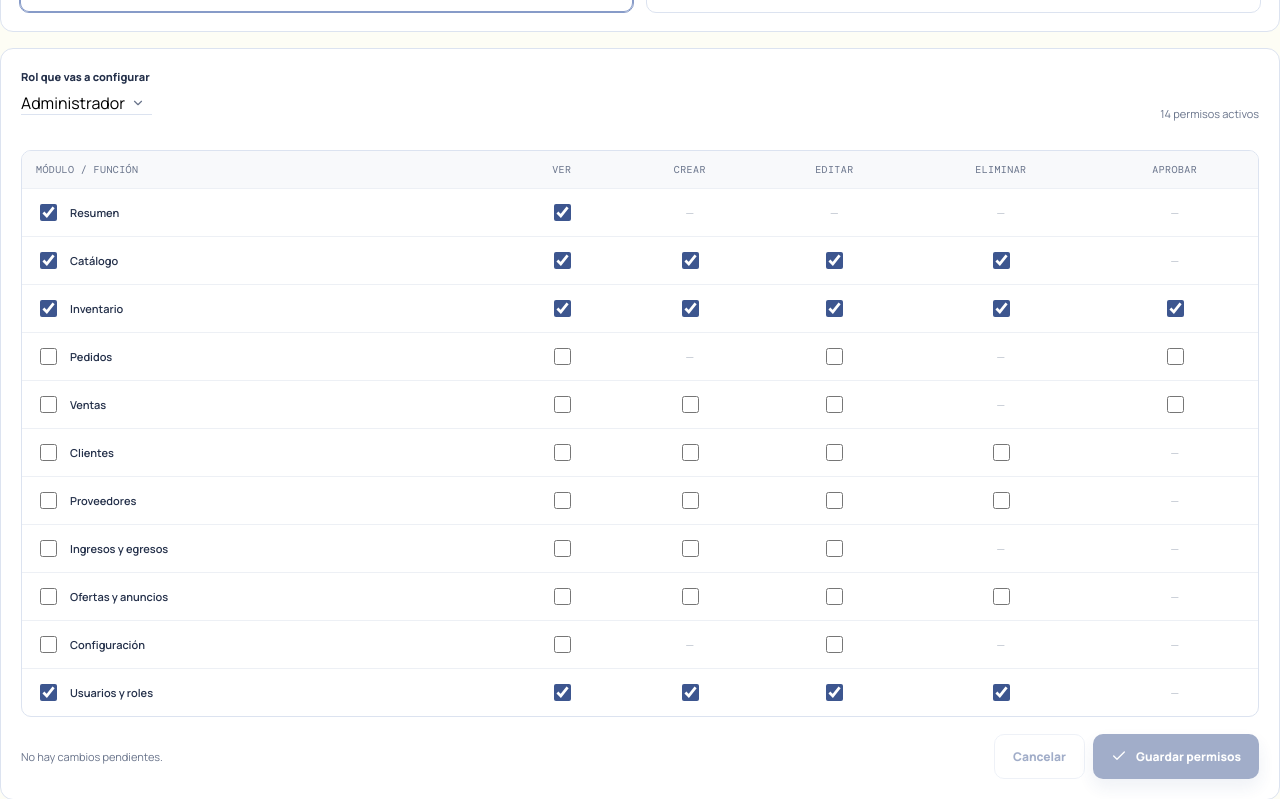
módulos asignados por rol › muestra el error del backend si no se guardan los permisos
(page scrolled)
Click the checkbox named "Seleccionar todos los permisos de Ingresos y egresos" at (48, 548), box [40,540,57,556]
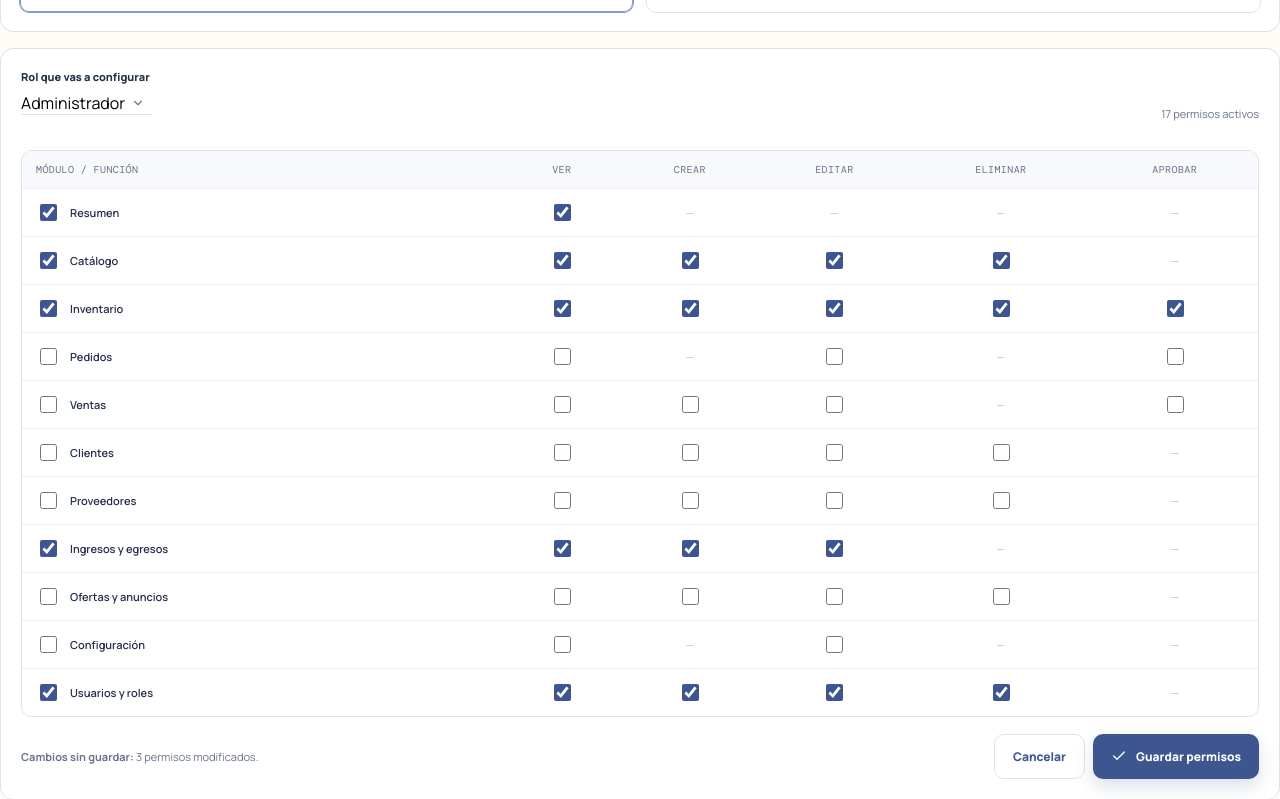
Click the button "Guardar permisos" at (1176, 756), box [1093,734,1259,778]
(page scrolled)
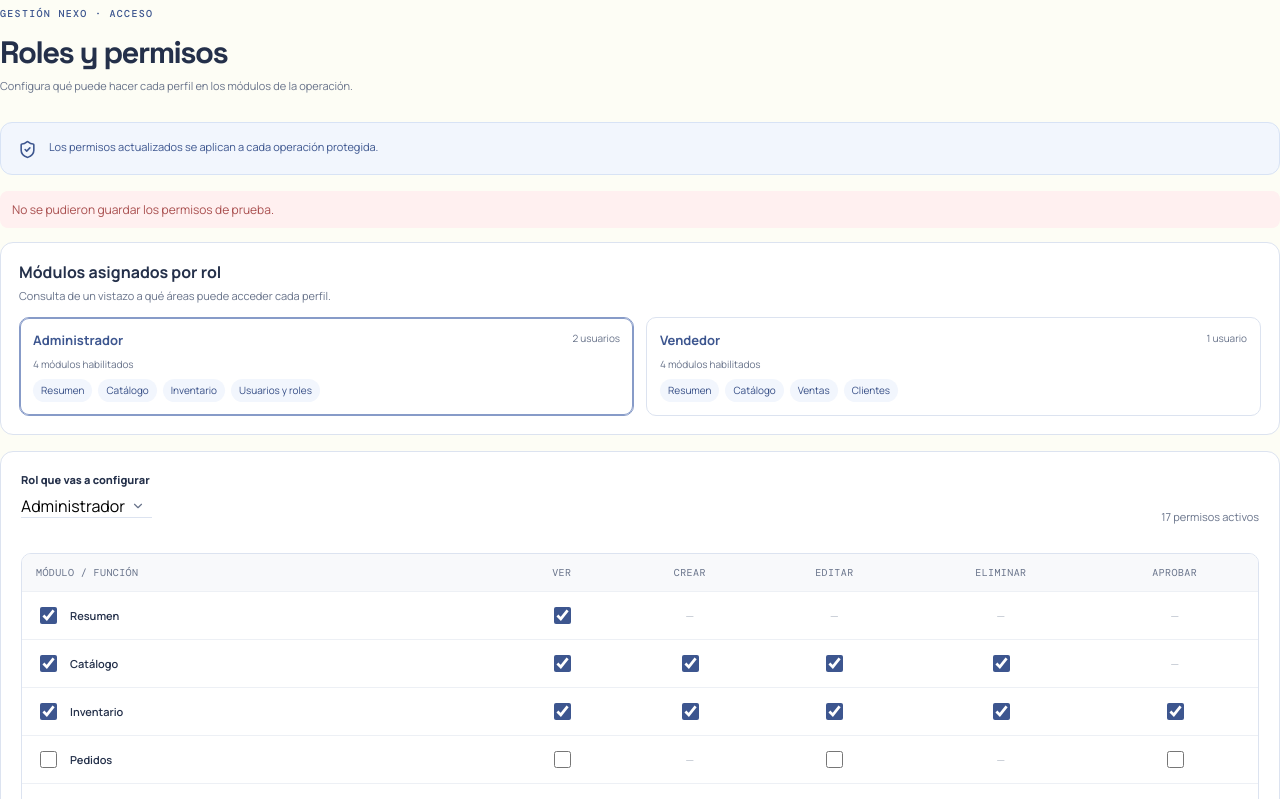
Now the message reads "No se pudieron guardar los permisos de prueba.", box [12,201,274,218]
